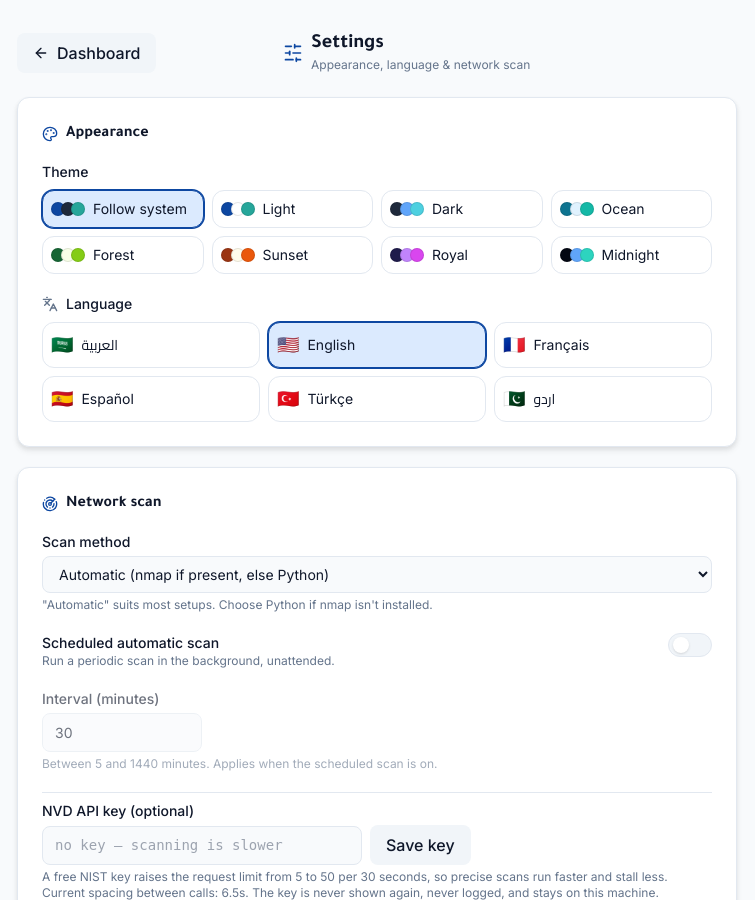
Test: SettingsPage › saves changed scan settings via POST and confirms
Step 1. Select "Always nmap (requires it installed)" in the dropdown labelled "Scan method" → (377, 574), box [42,556,712,593]
(page scrolled)
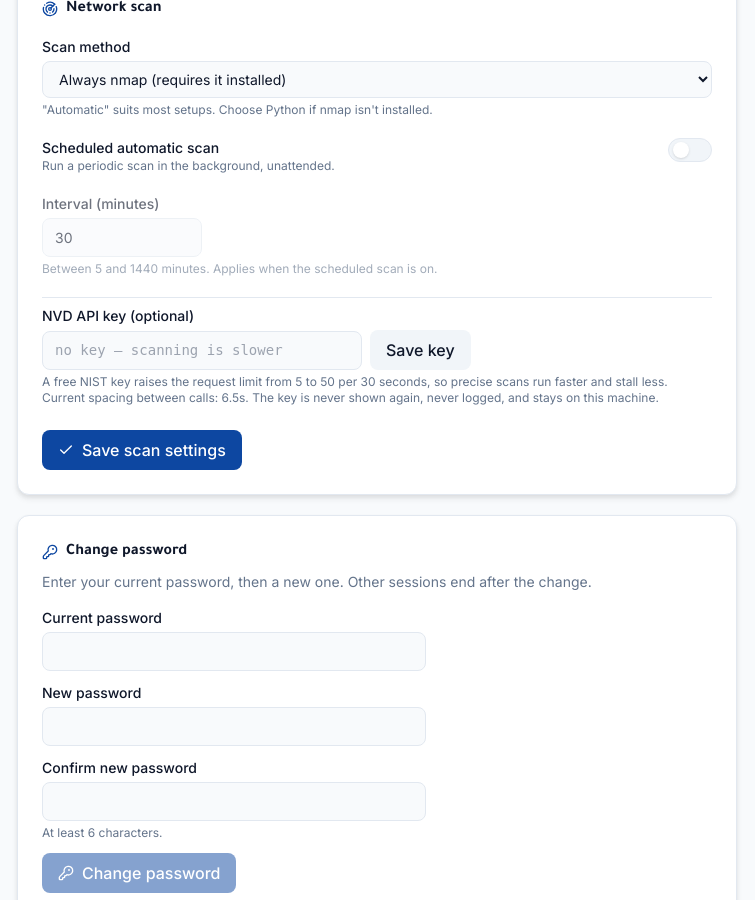
Now the button "Save scan settings" is enabled
Step 2. Click the button "Save scan settings" → click(142, 450), box [42,430,242,470]
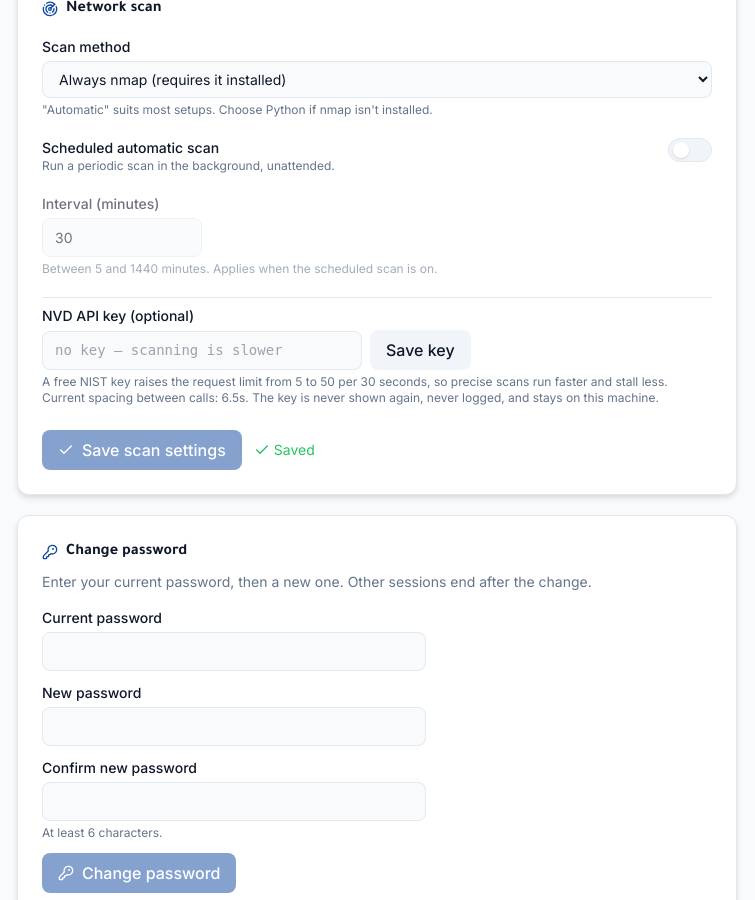
Now the text "Saved" is shown, box [254,440,315,460]
